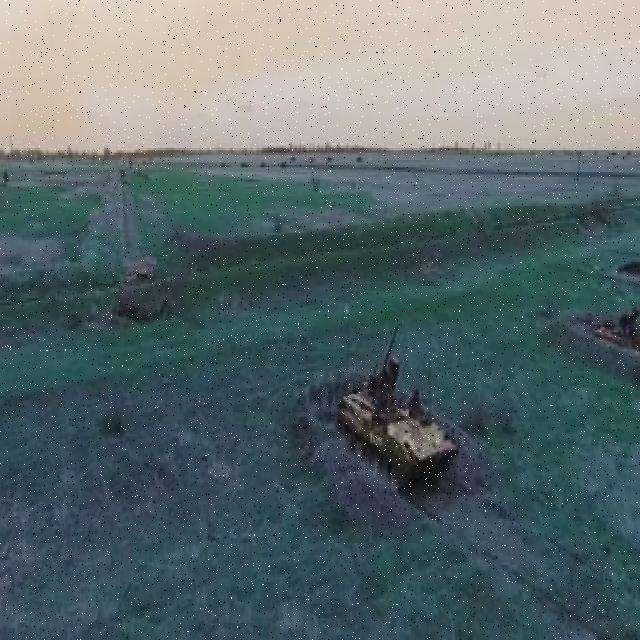MIL_MBT: (337, 327, 462, 499)
